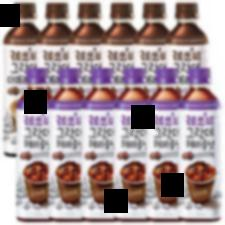letsbe_grande_hazelnut: (182, 68, 222, 222), (15, 67, 52, 222), (148, 68, 183, 223), (116, 67, 150, 224), (84, 67, 117, 224), (52, 67, 85, 222)
